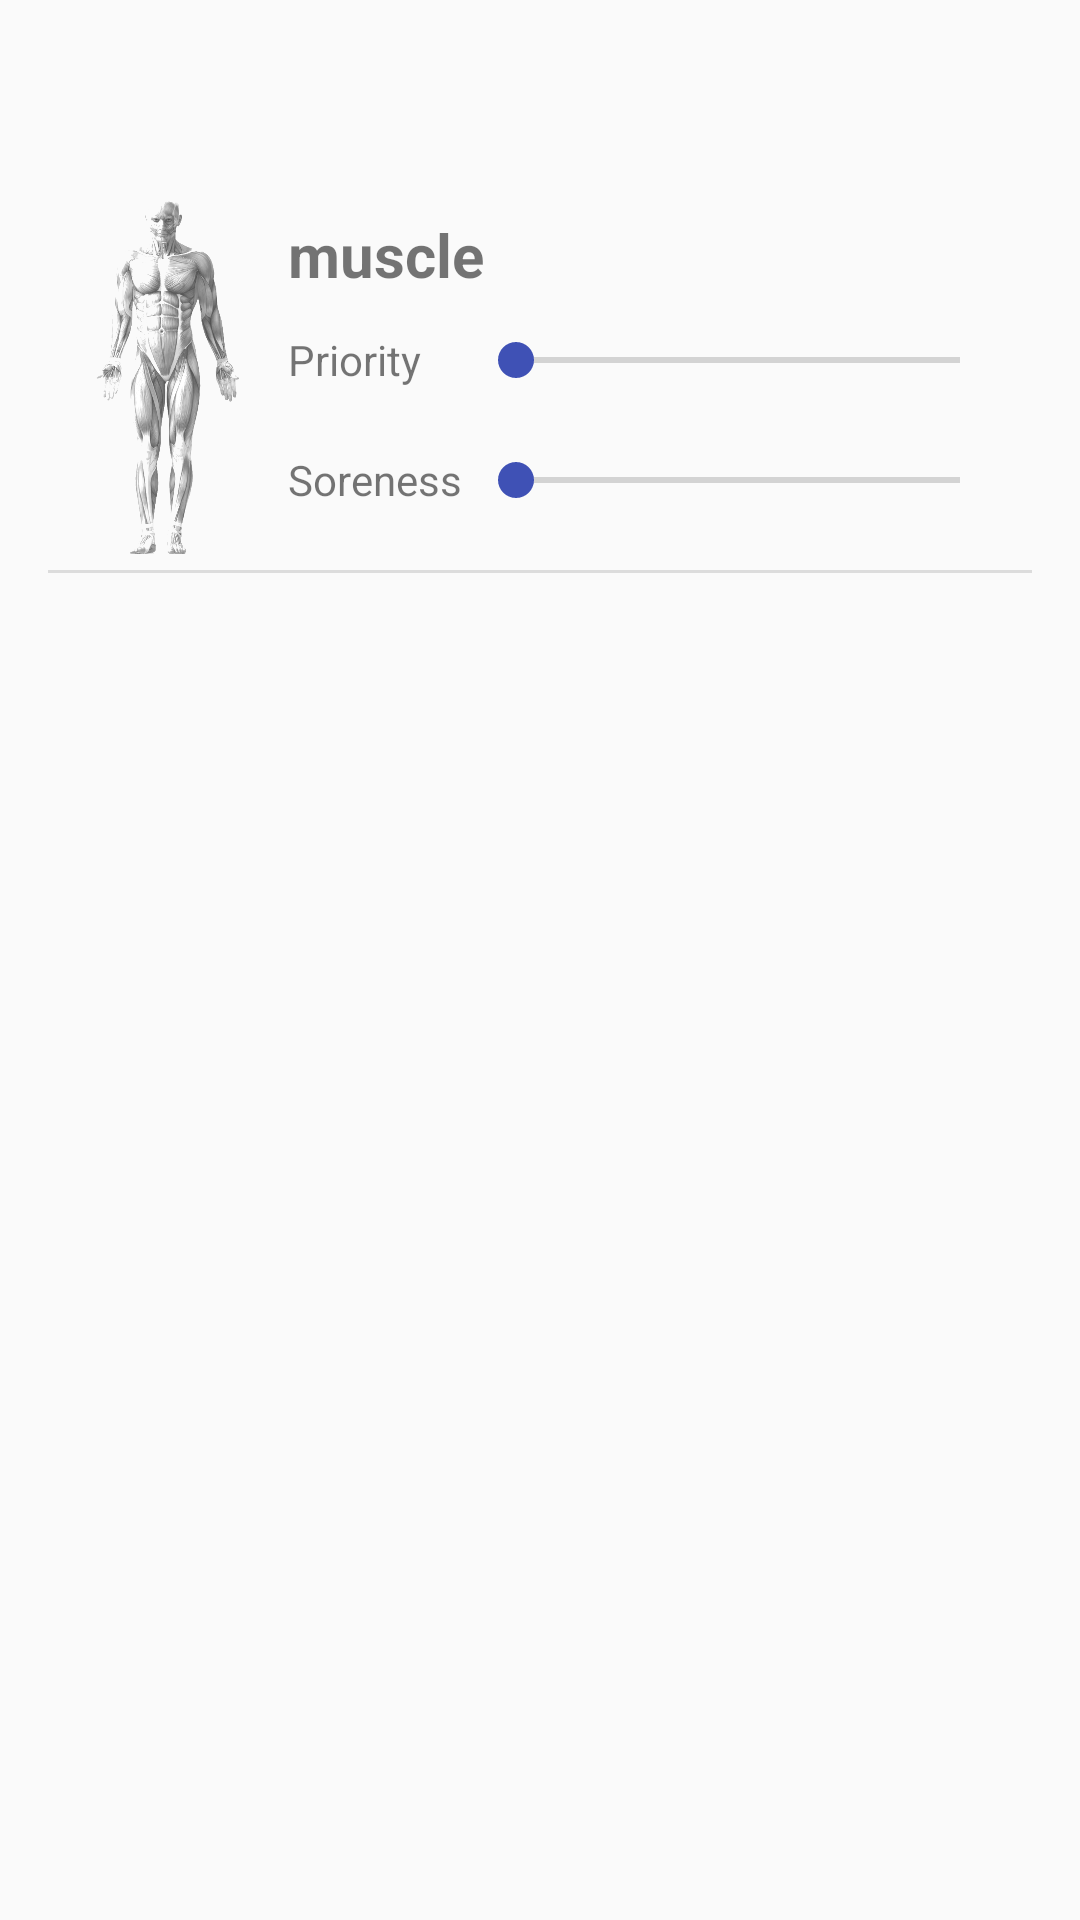

Screen size 1080px×1920px. Icon name, then its box in pixels as BBox(x1, y1, x2, y2):
body: BBox(97, 202, 239, 554)
